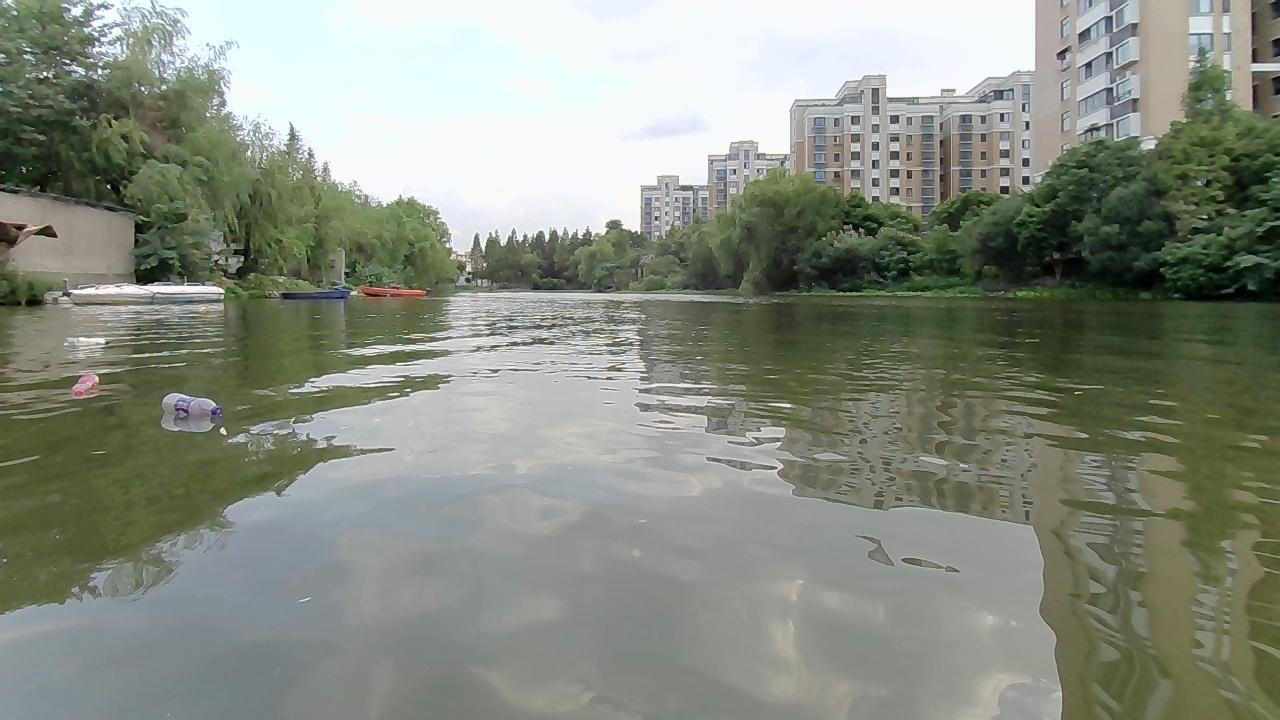bottle: (159, 386, 222, 424), (70, 371, 101, 397), (61, 332, 107, 348)
